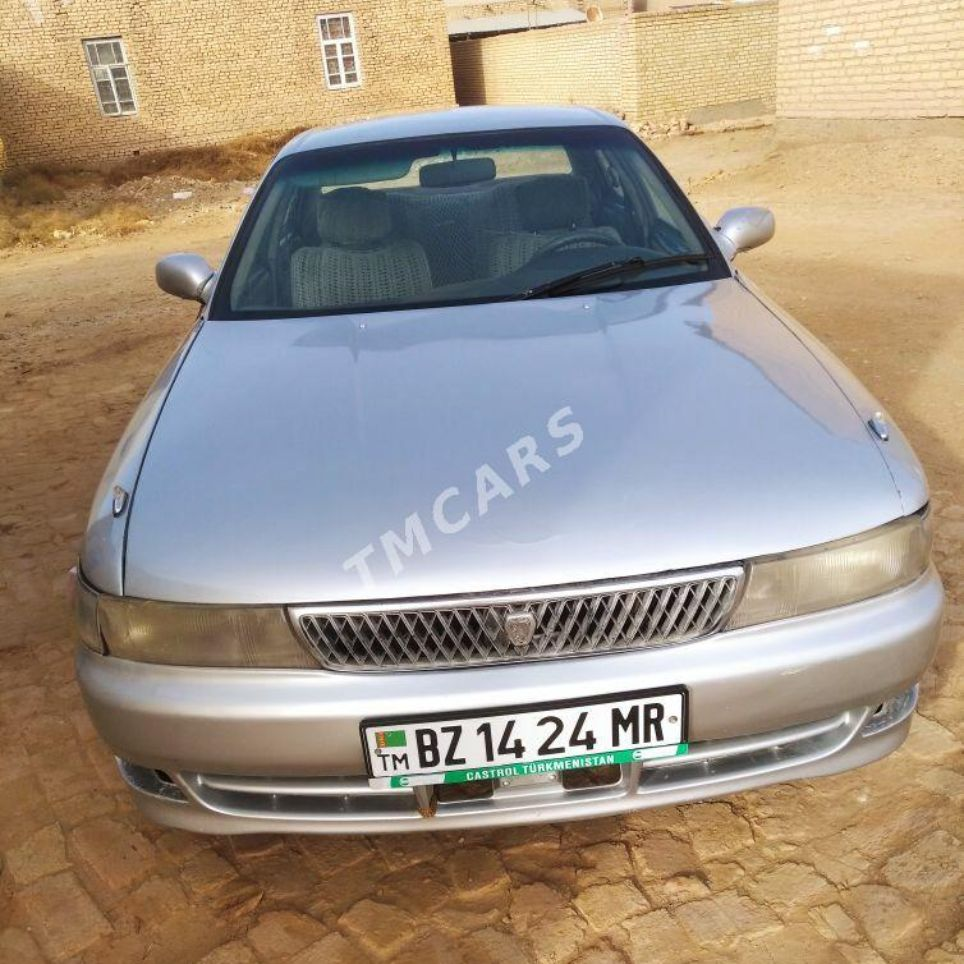license plate: (360, 692, 682, 790)
truck: (72, 112, 940, 835)
